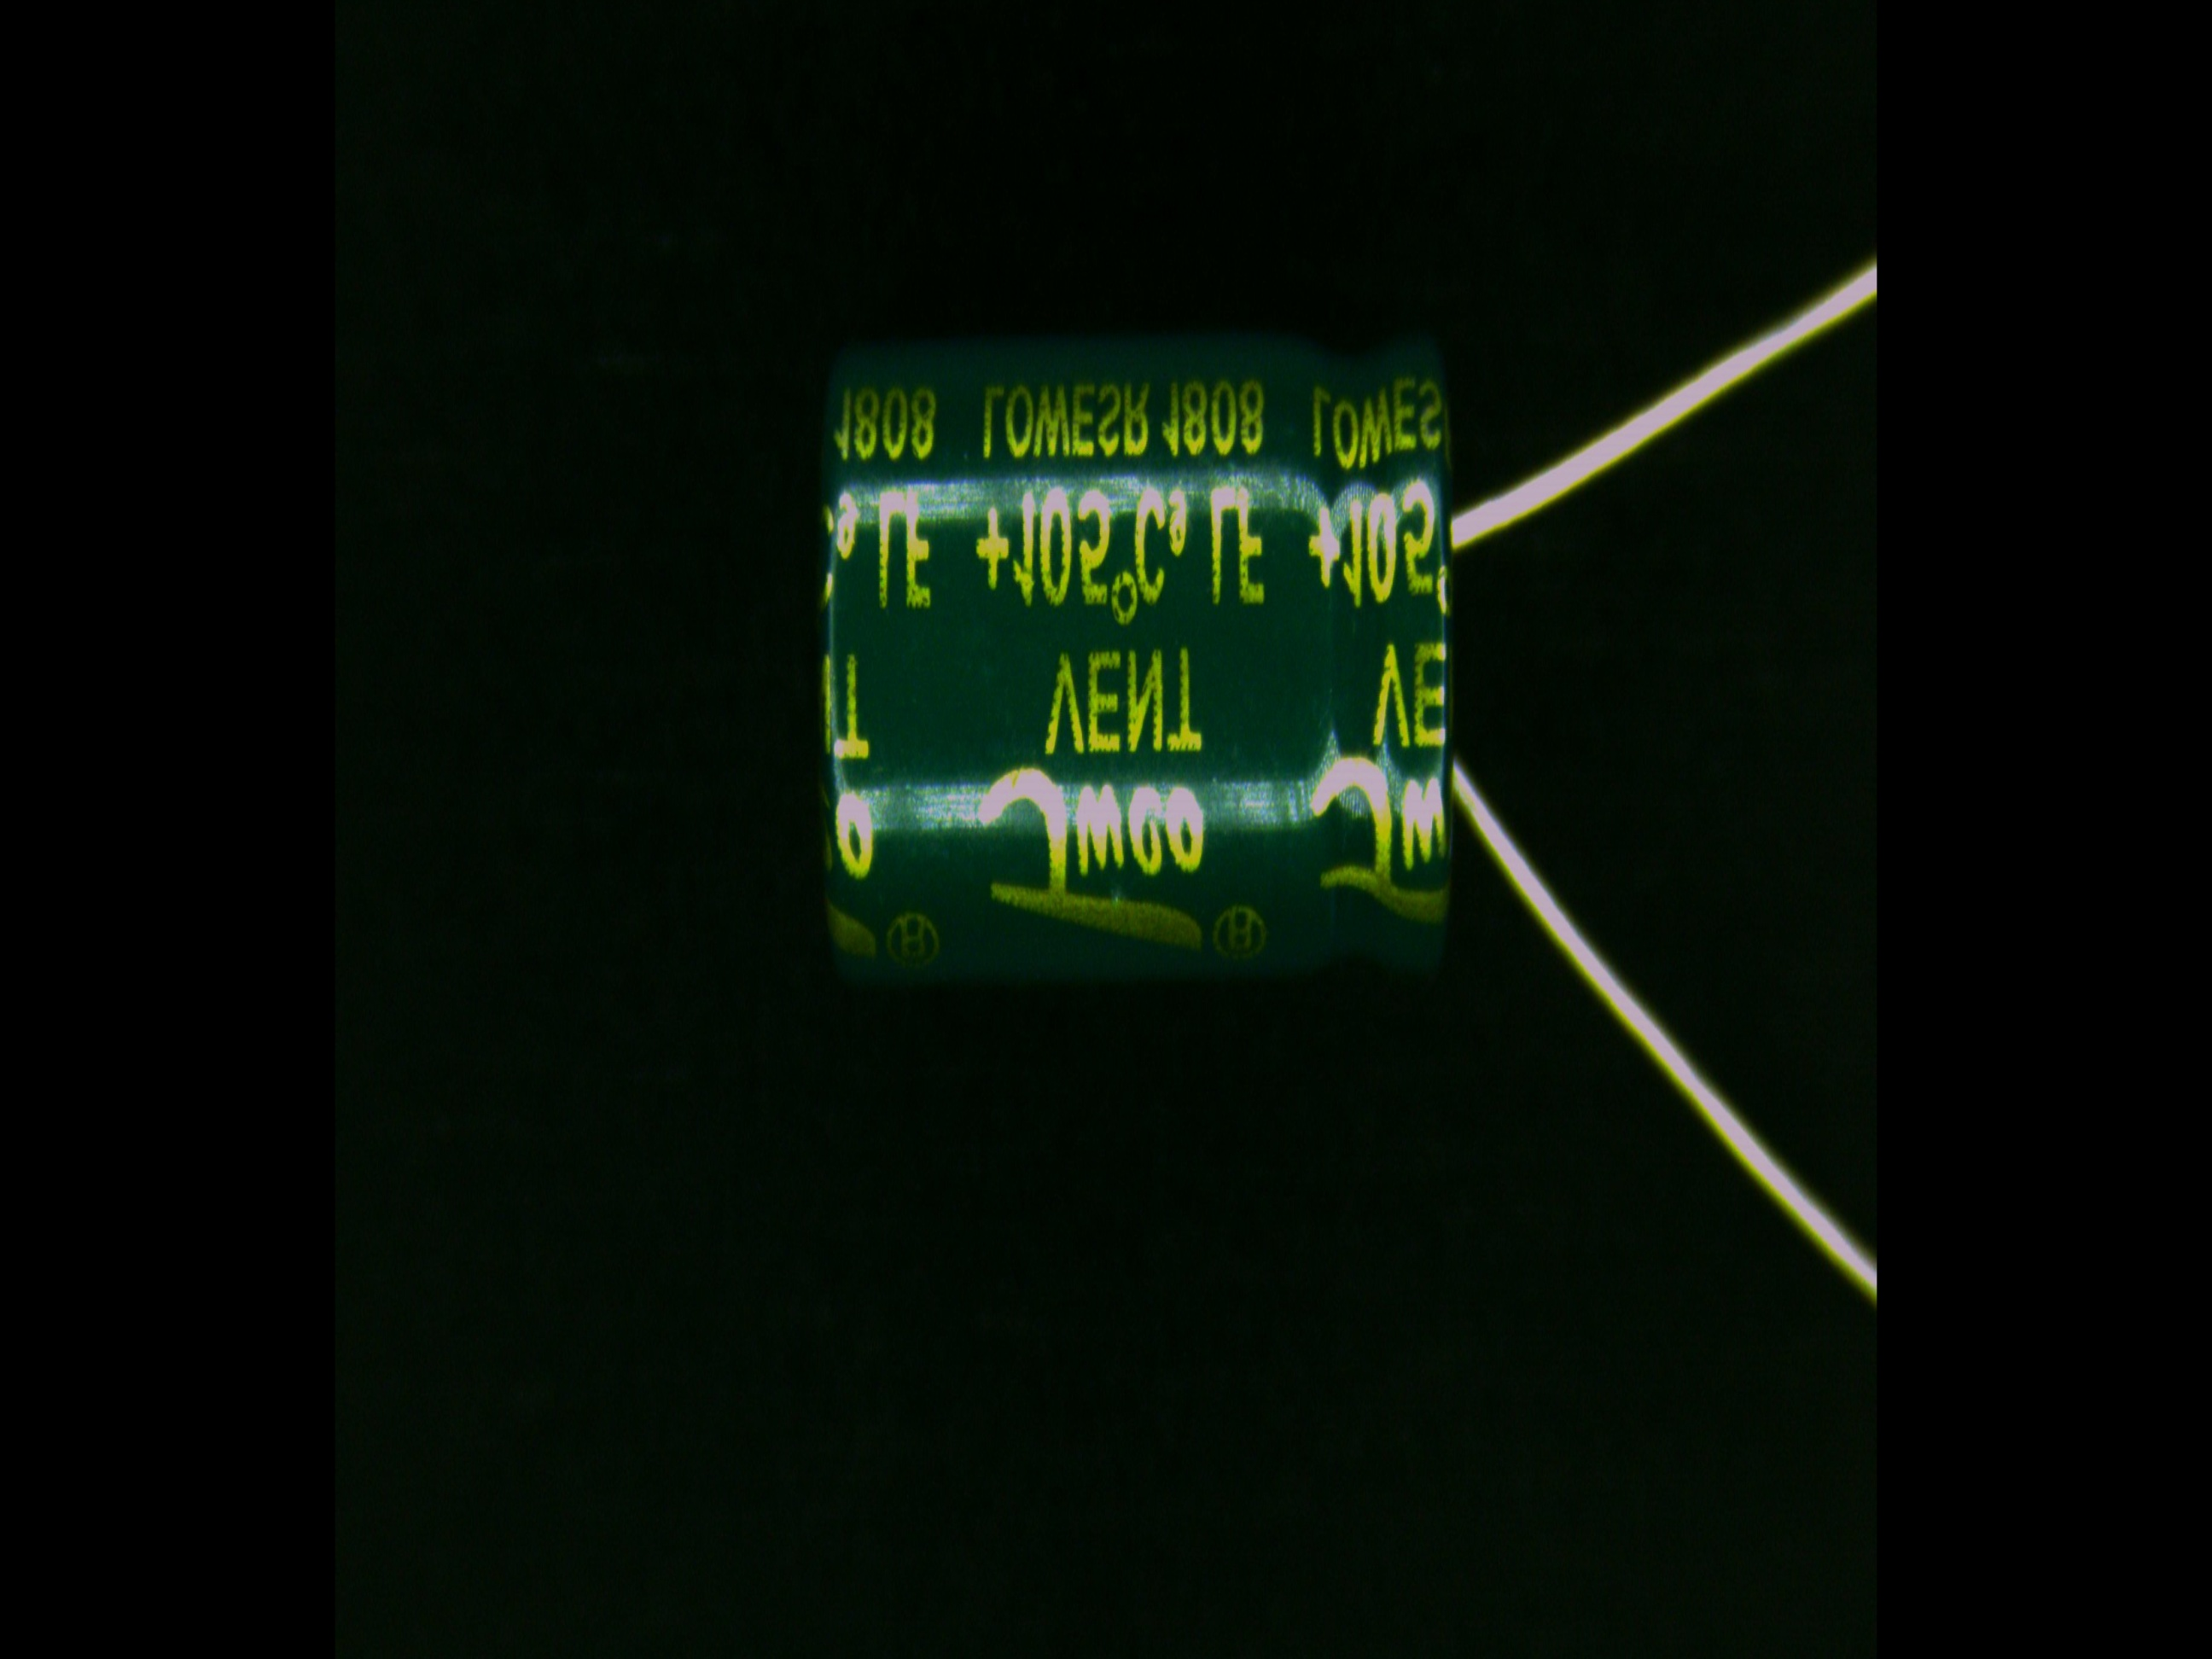c1: (819, 310, 1583, 990)
